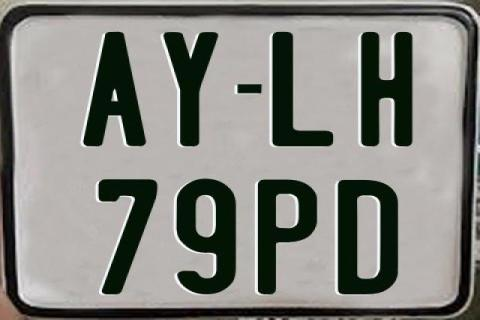0: (174, 178, 237, 298), (97, 178, 162, 294)
A: (82, 31, 146, 151)
D: (338, 179, 399, 296)
H: (359, 30, 417, 148)
L: (271, 32, 336, 148)
P: (256, 178, 315, 294)
Y: (161, 30, 215, 146)
